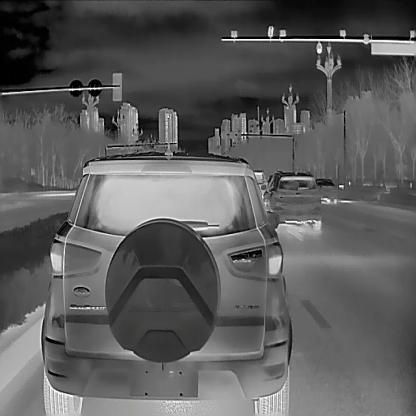car: (41, 151, 293, 415), (262, 167, 320, 230), (314, 177, 336, 202)
